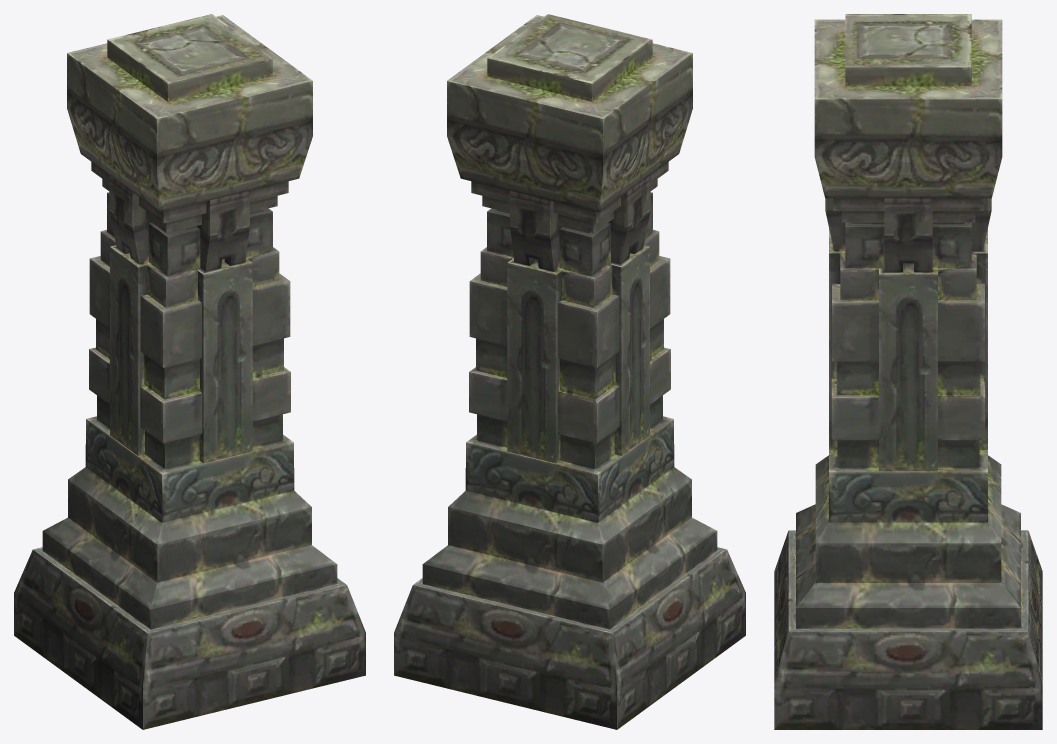
File: wlf_zhuzi01_w.FBX
3 renders of one model, left to right at view 1: azimuth 30°, elevation 25°; view 2: azimuth 150°, elevation 25°; view 3: azimuth 270°, elevation 25°, orthographic. The views are drawn at different scales.
Parts seen in each view (by area): view 1: wlf_zhuzi01_w; view 2: wlf_zhuzi01_w; view 3: wlf_zhuzi01_w.
Boxes of the visible parts, box(x1,y1,x2,y2) form: wlf_zhuzi01_w: box(14, 14, 365, 729); wlf_zhuzi01_w: box(394, 14, 745, 729); wlf_zhuzi01_w: box(774, 14, 1042, 729).
Bounding box in the file's own units: 9.86 × 25.63 × 9.86.
